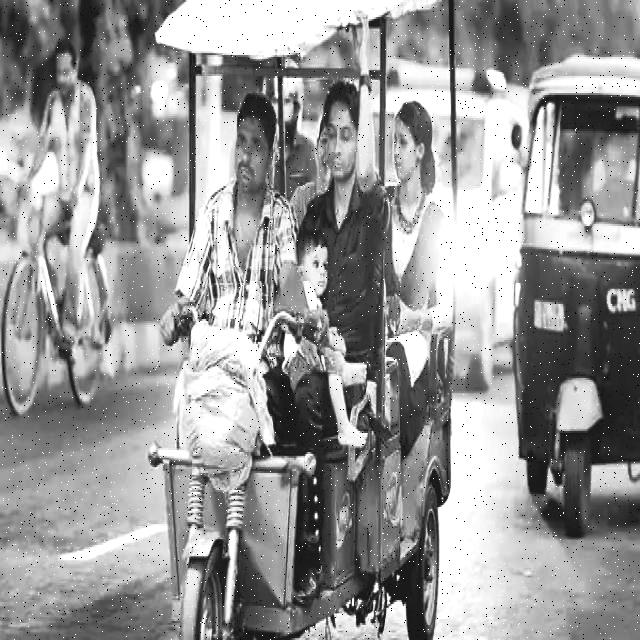Toto: (156, 0, 464, 640)
